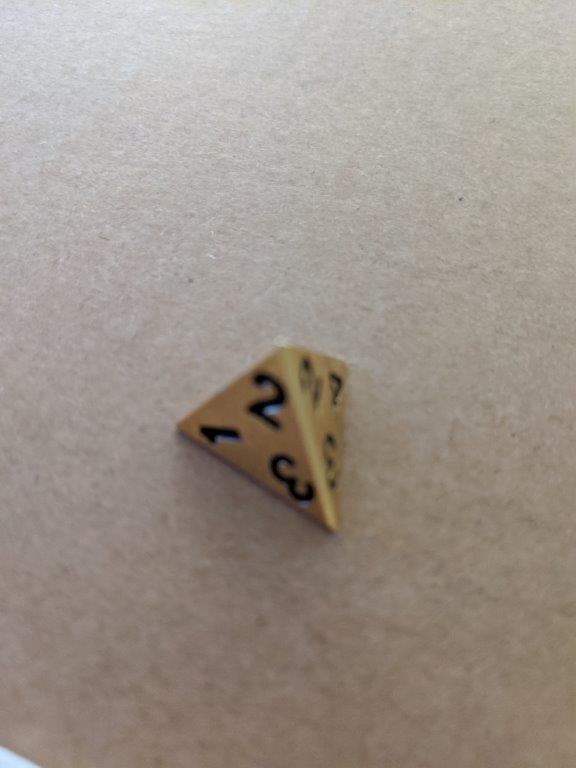d4-2: (170, 337, 360, 541)
